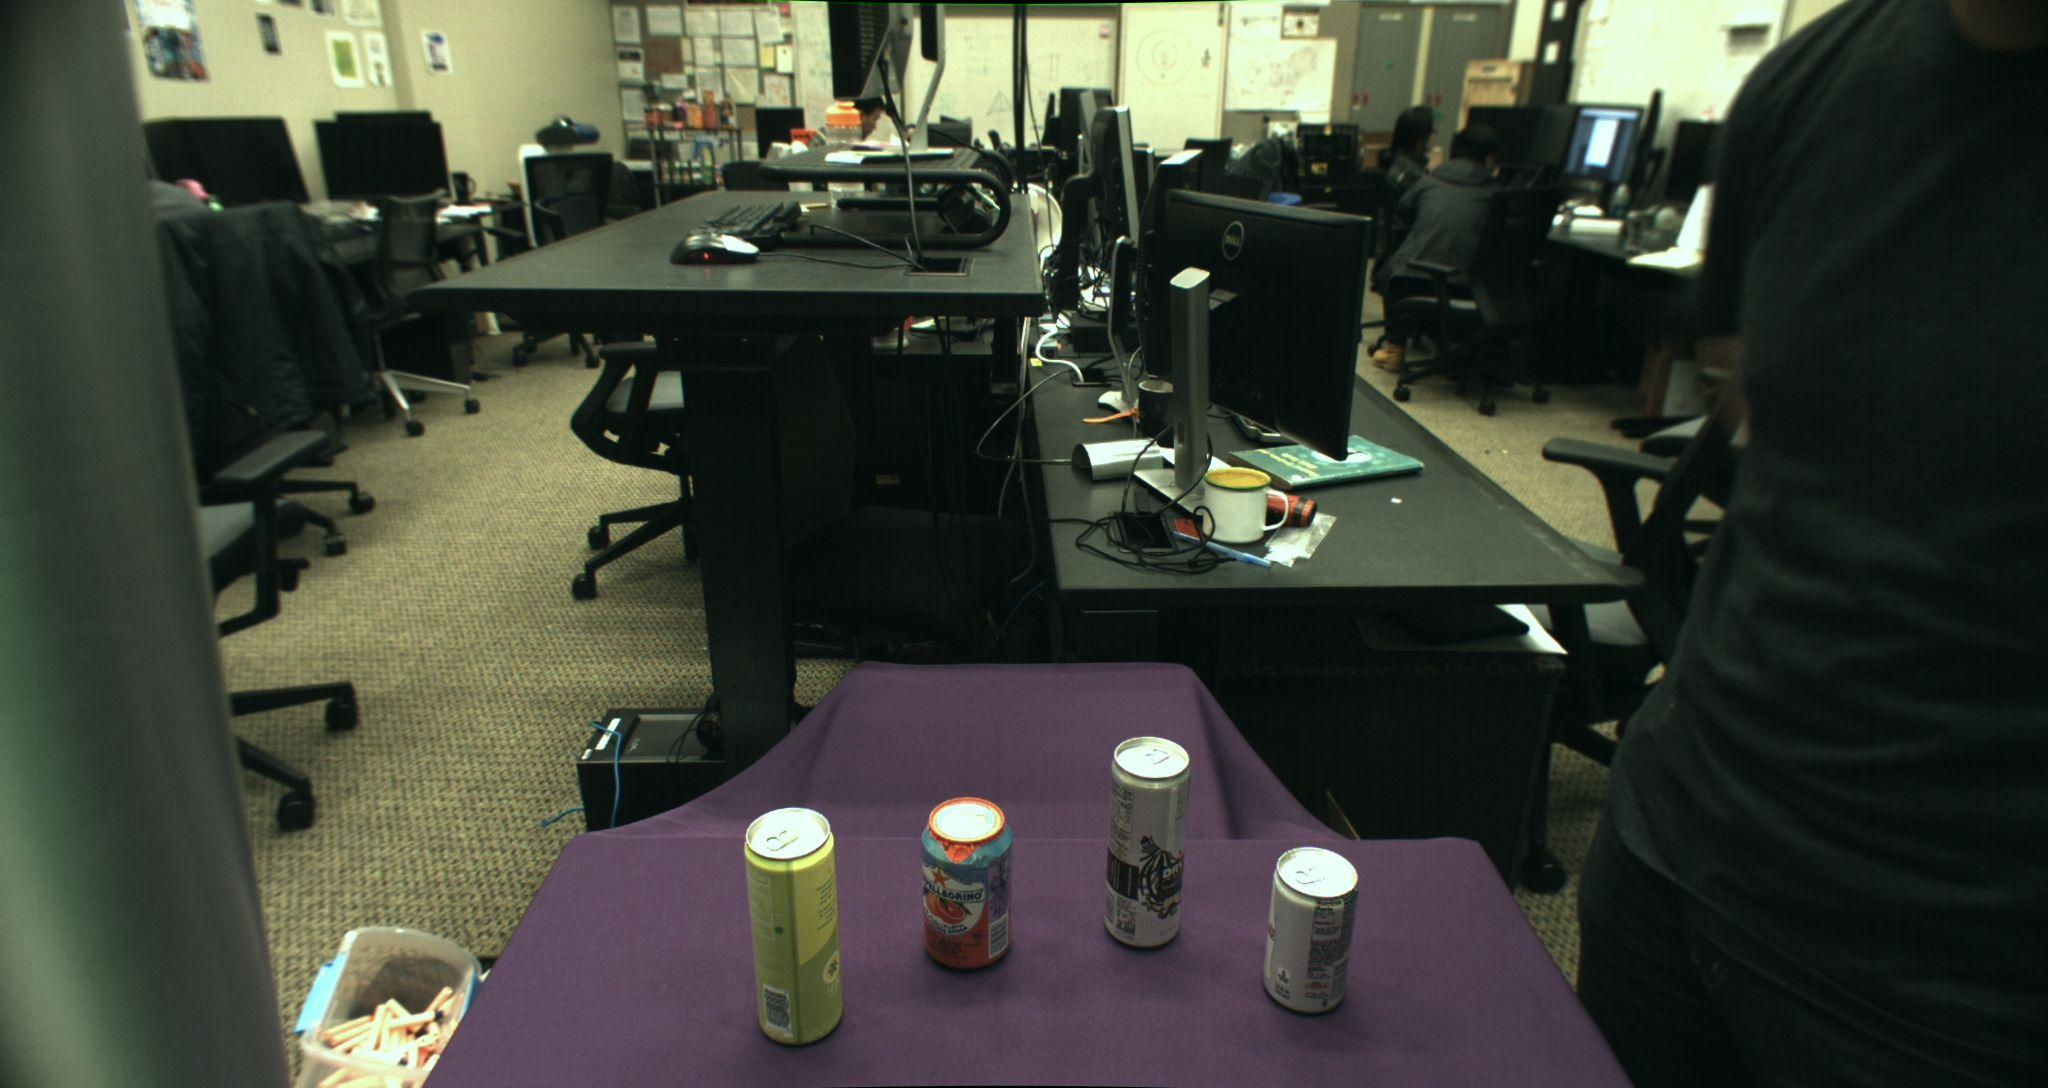can_diet_coke_small: (1262, 845, 1359, 1013)
can_dry_sparkling_vanilla_bean: (1104, 737, 1191, 948)
can_izze_fusions_lemon_lime: (745, 806, 845, 1047)
can_sanpellegrino_blood_orange: (920, 795, 1013, 971)
